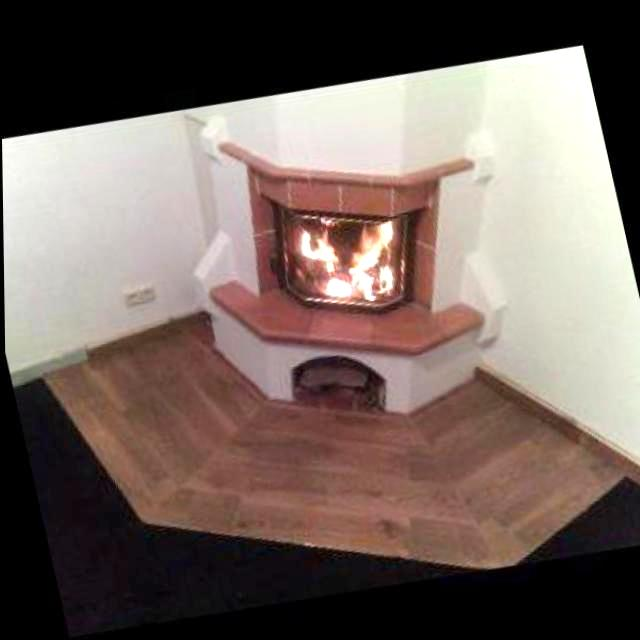fire: (296, 196, 408, 304)
